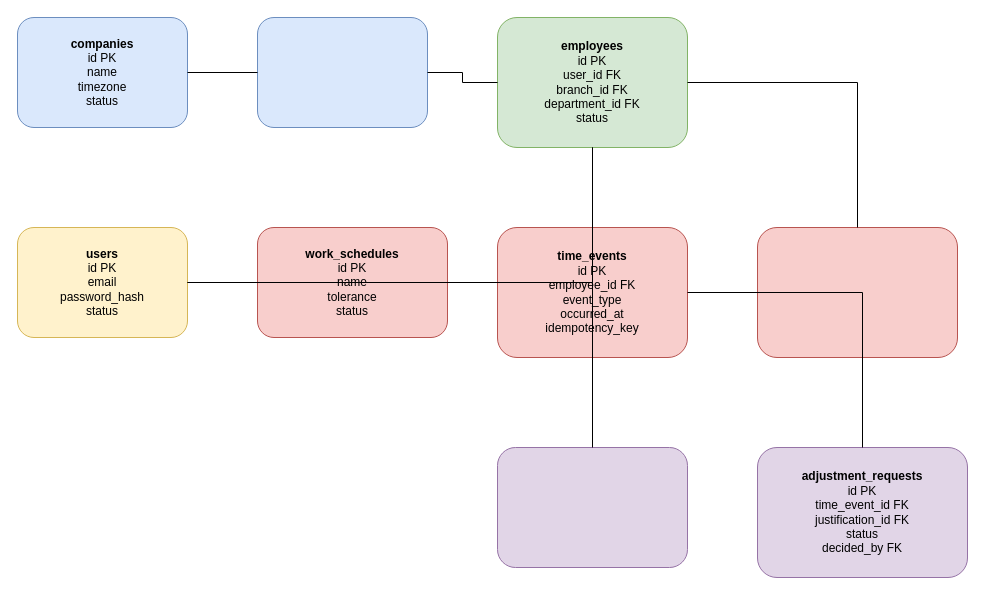
The diagram is 985 pixels wide and 595 high, and some of its shapes have lost their labels. The box of each missing label's shape, as (x1, y1, x2, y2) in pixels:
audit_events id PK actor_id FK action entity_type occurred_at: (496, 446, 688, 568)
branches id PK company_id FK name timezone: (256, 16, 428, 128)
daily_summaries id PK employee_id FK work_date worked_minutes balance_minutes: (756, 226, 958, 358)
